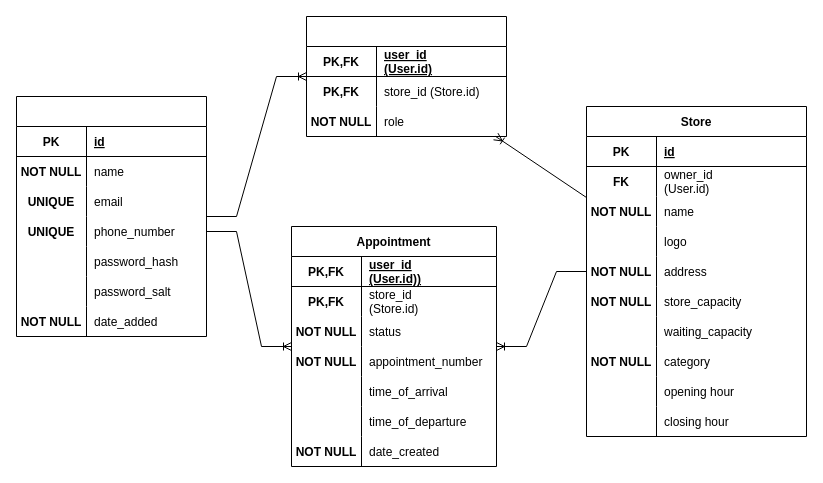
Some shapes in this 823 by 483 pixel diagram are drawn without their labels. The shapes that lost their labels are listed below. From the top down, each one's box as (x1, y1, x2, y2) in pixels, then its label:
(306, 16, 506, 136): Store_User
(16, 96, 206, 336): User
